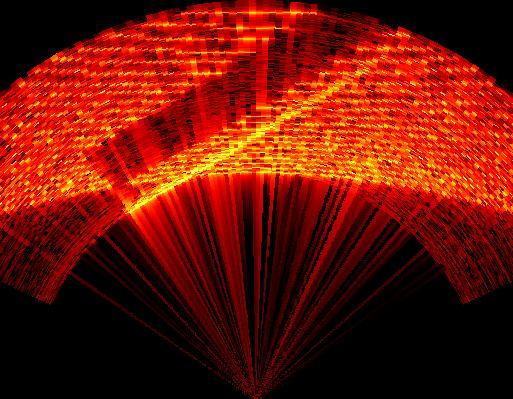pipe: (88, 8, 411, 214)
